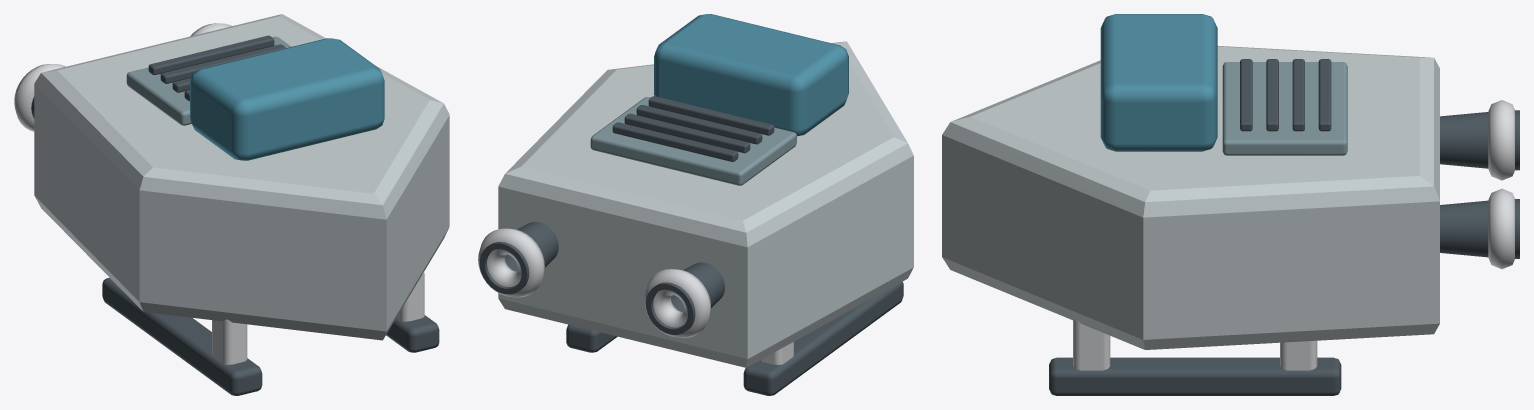
3 views of the same model, side by side, from view 1: azimuth 30°, elevation 25°; view 2: azimuth 150°, elevation 25°; view 3: azimuth 270°, elevation 25° (orthographic). The views are drawn at different scales.
Parts seen in each view (by area): view 1: utility-drone; view 2: utility-drone; view 3: utility-drone.
Boxes of the visible parts, x1,y1,x2,y2 form: utility-drone: [14, 14, 449, 395]; utility-drone: [478, 14, 913, 395]; utility-drone: [942, 14, 1519, 395].
Size of the model in its own units: 1.57 by 1.3 by 2.31.
